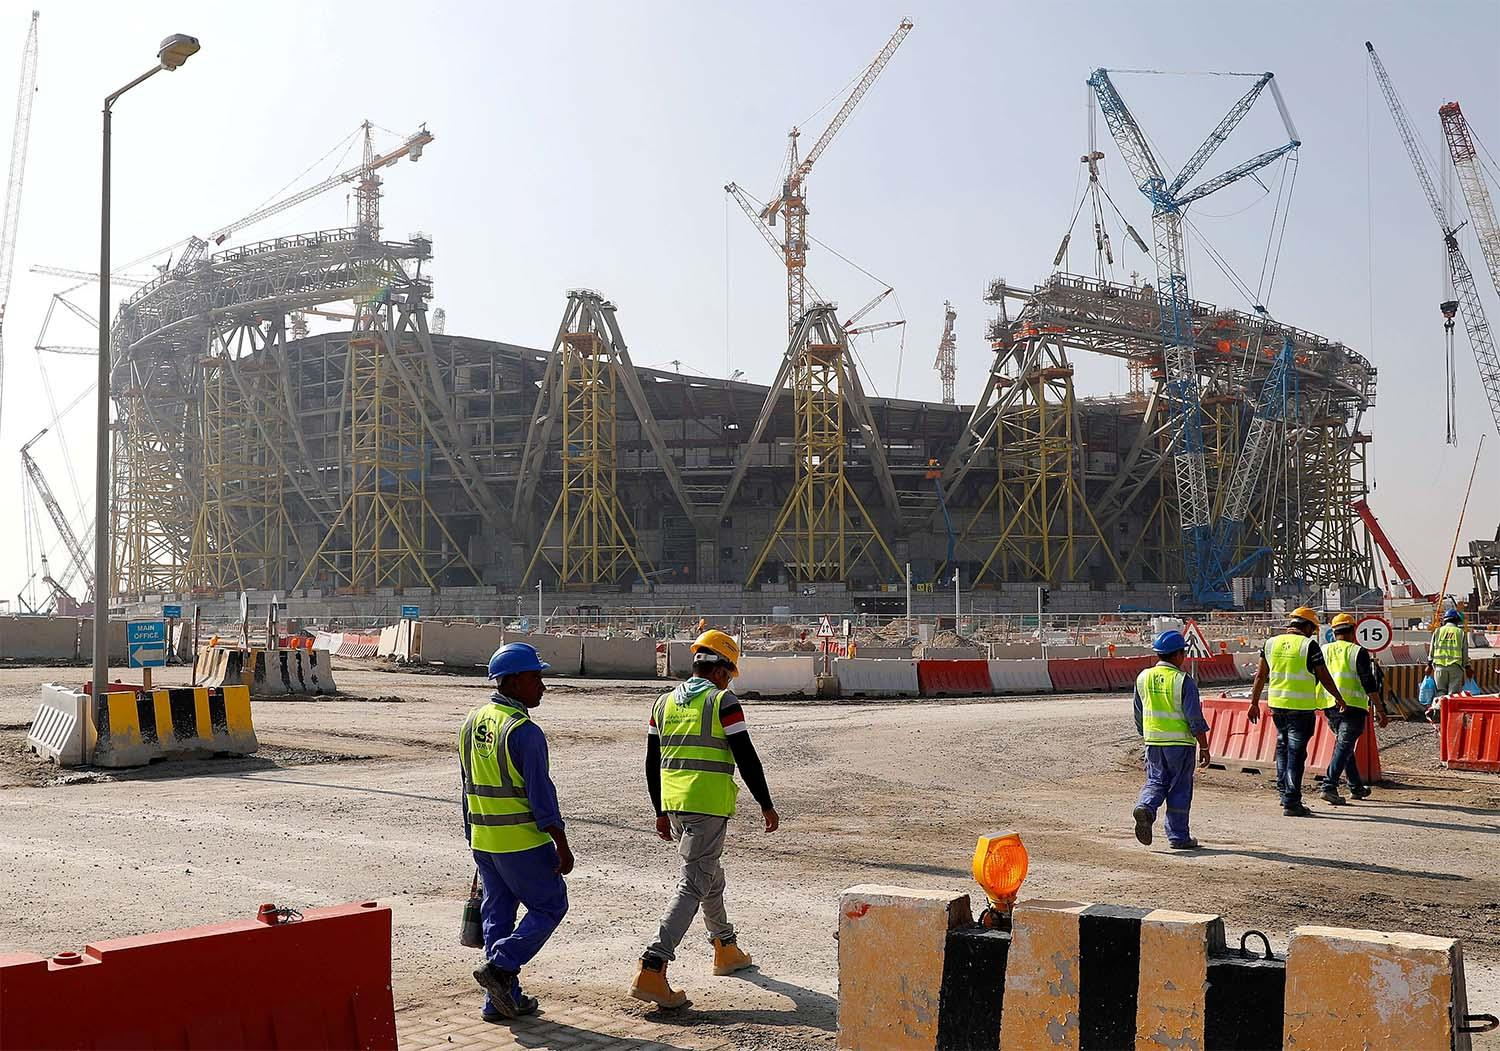With Helmet: (488, 641, 552, 710), (688, 622, 741, 695), (1150, 628, 1189, 666), (1286, 606, 1322, 638), (1328, 612, 1358, 642)
